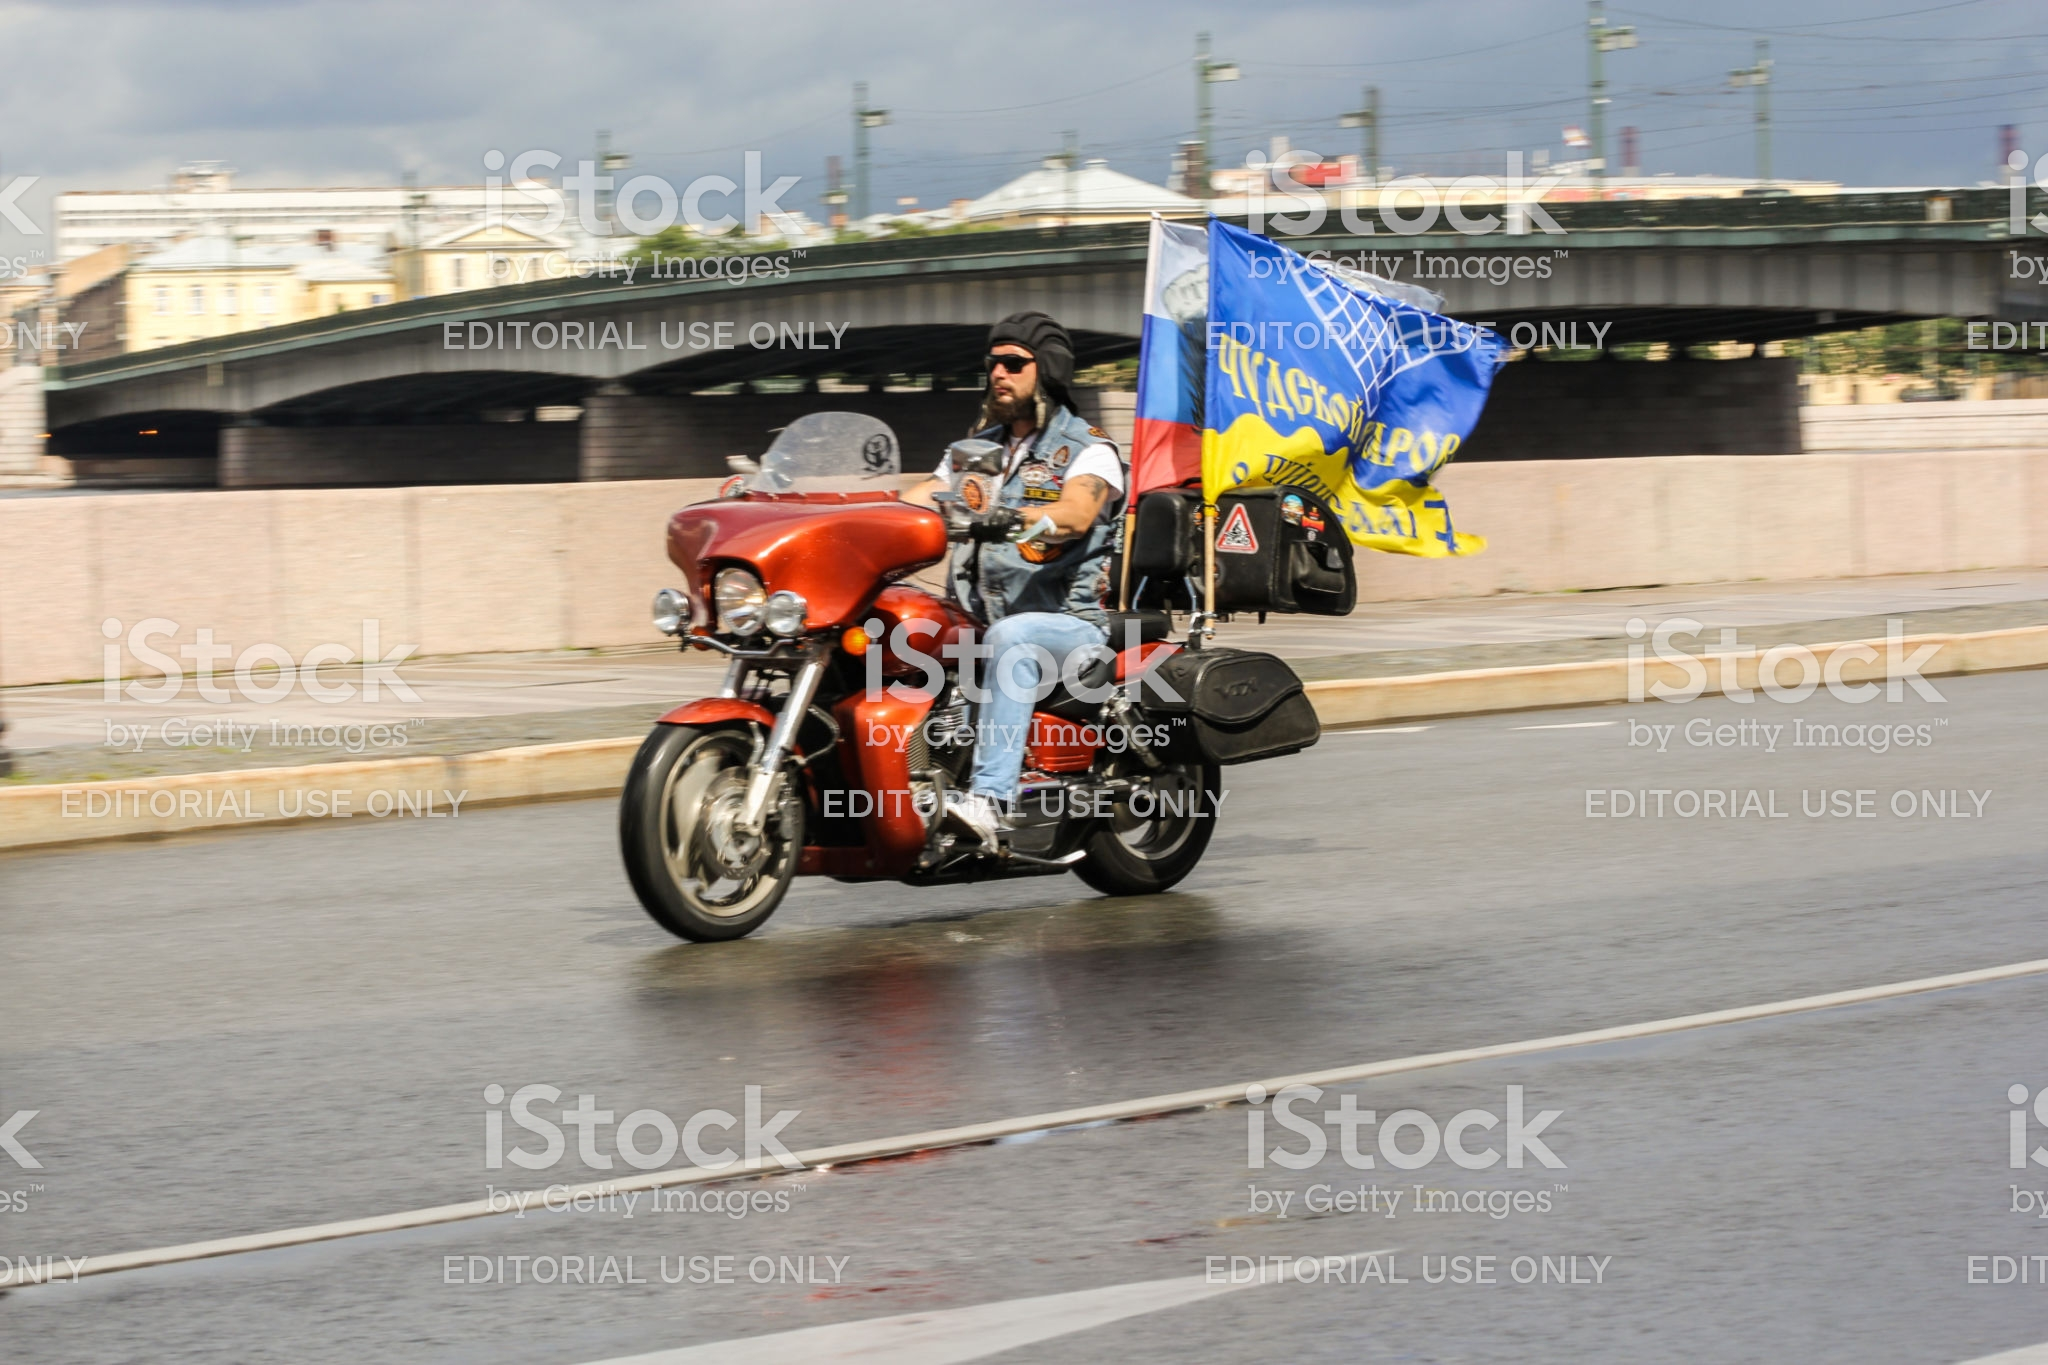helmet: (991, 309, 1063, 384)
